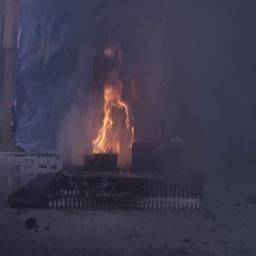fire: (91, 72, 135, 164)
